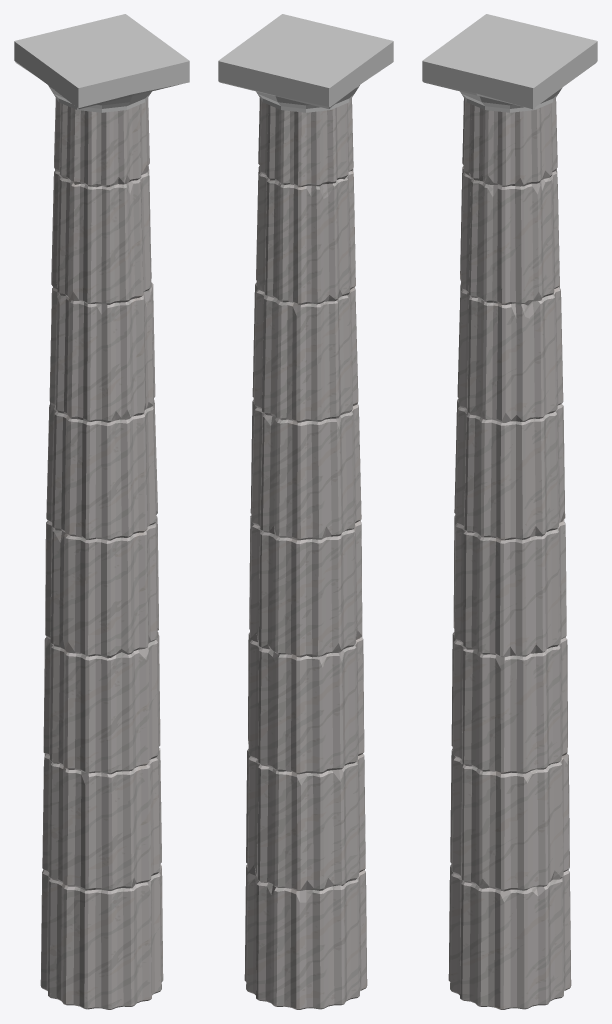
The model's file is SM_Bld_Pillar_Monument_01.fbx.
3 renders of one model, left to right at view 1: azimuth 30°, elevation 25°; view 2: azimuth 150°, elevation 25°; view 3: azimuth 330°, elevation 25°, orthographic.
Parts seen in each view (by area): view 1: SM_Bld_Pillar_Monument_01; view 2: SM_Bld_Pillar_Monument_01; view 3: SM_Bld_Pillar_Monument_01.
Boxes of the visible parts, left/top/right/bottom form: SM_Bld_Pillar_Monument_01: left=14, top=14, right=189, bottom=1009; SM_Bld_Pillar_Monument_01: left=218, top=14, right=393, bottom=1009; SM_Bld_Pillar_Monument_01: left=422, top=14, right=597, bottom=1009.
Size of the model in its own units: 150 by 1200 by 150.
